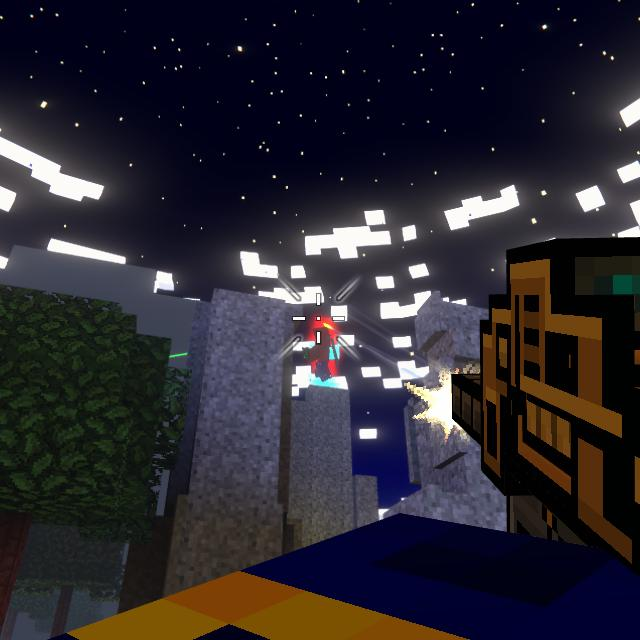Enemy: (308, 327, 336, 383)
